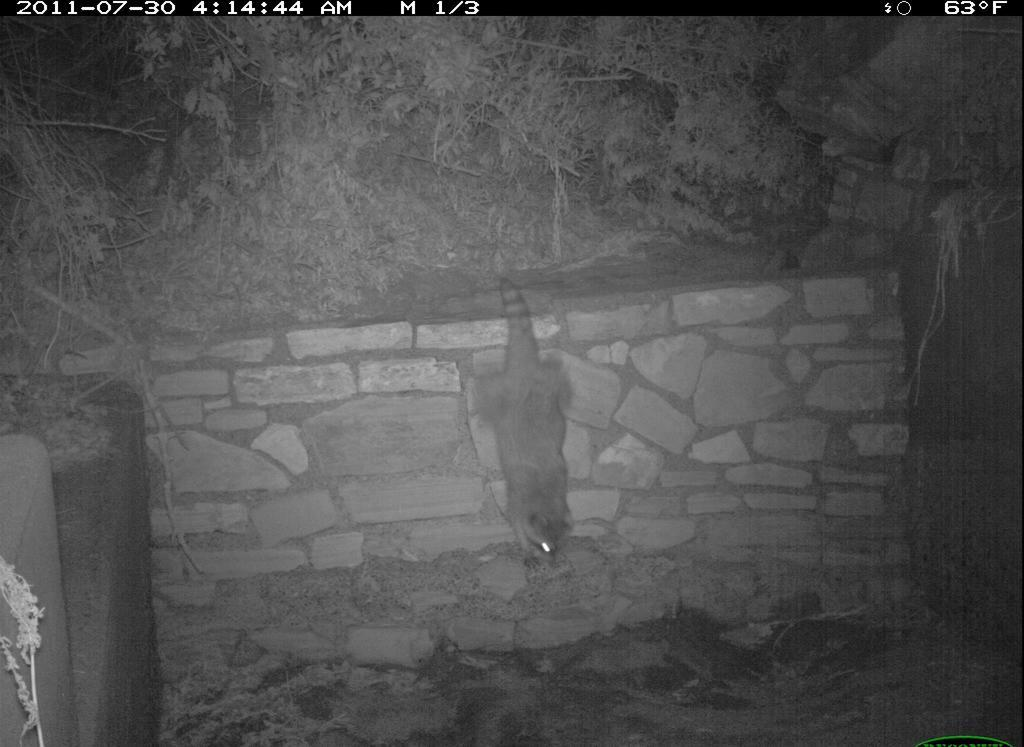raccoon: (450, 263, 591, 574)
